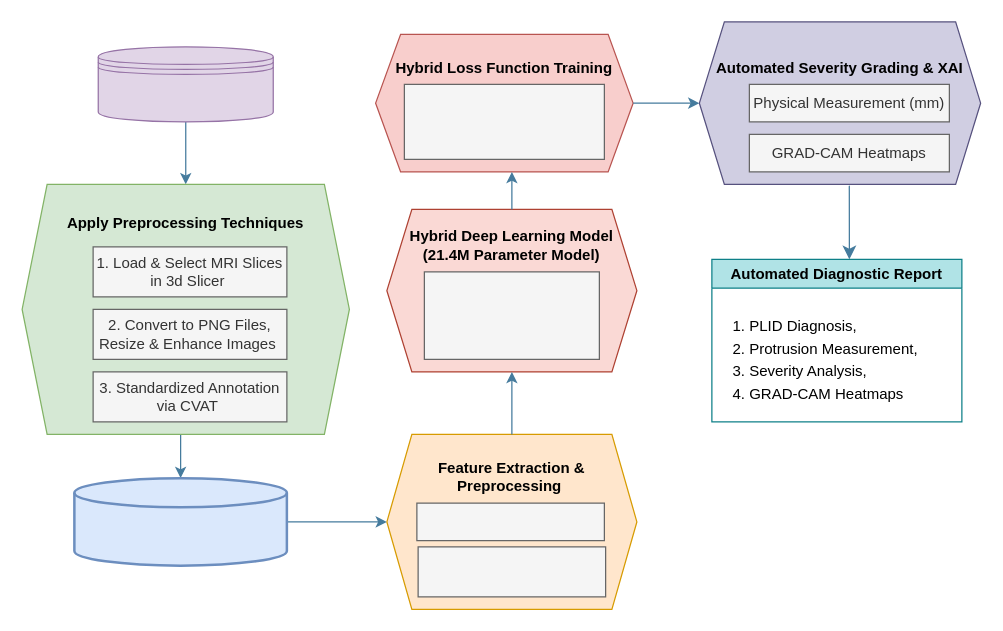
This 1003x631 diagram has some shape labels left out. Each missing label, with the centre of its shape:
"1. CLAHE Enhancement" goes at point (510, 521).
"2. 35%-75% Horizontal Cropping(L1-S1)" goes at point (511, 571).
"Annotated Data (MRI Images, Masks & Labels)" goes at point (180, 521).
"Combines a ResNet-50 encoder with an Attention-gated U-Net" goes at point (511, 315).
"Hospital Raw MRI Data(Dicom Files)" goes at point (185, 84).
"Integrated Jaccard Loss & Categorical Focal Loss" goes at point (503, 121).
